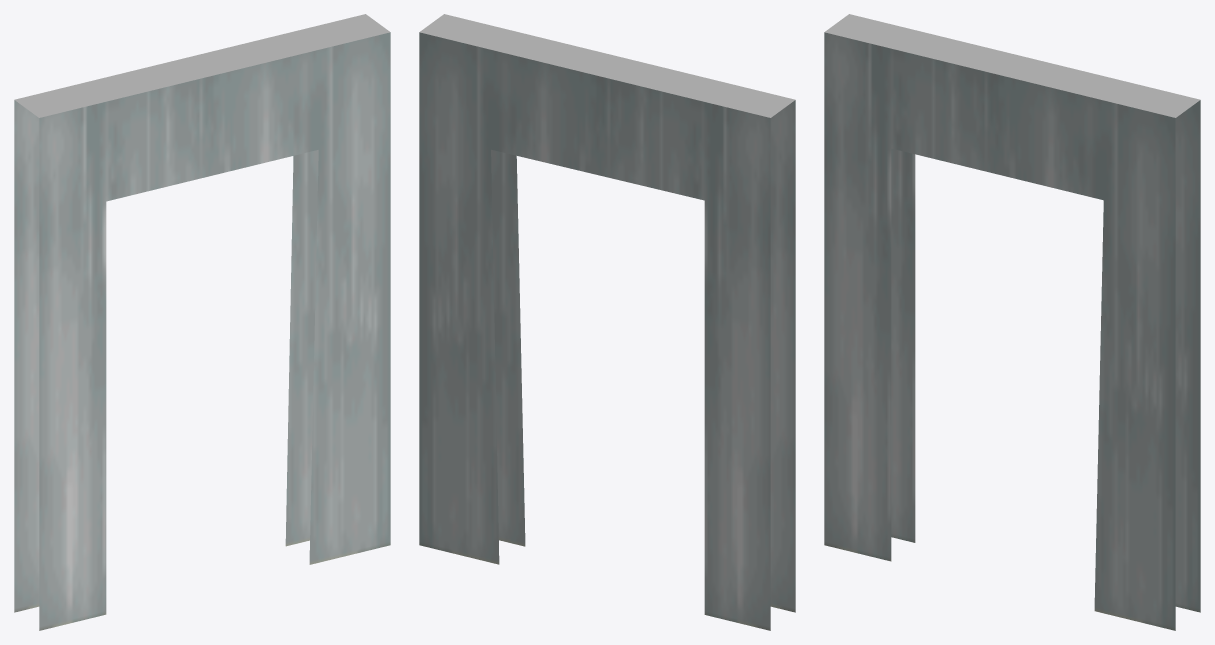
The model's file is W_I3_o [Grau]_1296.glb.
The picture shows the model from 3 angles, left to right: view 1: azimuth 30°, elevation 25°; view 2: azimuth 150°, elevation 25°; view 3: azimuth 330°, elevation 25°; orthographic projection.
Visible parts, largest first — view 1: pPlaneShape2, pPlaneShape3, pPlaneShape1; view 2: pPlaneShape3, pPlaneShape2, pPlaneShape1; view 3: pPlaneShape2, pPlaneShape3, pPlaneShape1.
Part boxes in pixels (left/top/right/bottom): pPlaneShape2: left=39, top=32, right=390, bottom=630; pPlaneShape3: left=14, top=100, right=318, bottom=612; pPlaneShape1: left=14, top=14, right=390, bottom=117; pPlaneShape3: left=419, top=32, right=770, bottom=630; pPlaneShape2: left=491, top=100, right=795, bottom=612; pPlaneShape1: left=419, top=14, right=795, bottom=117; pPlaneShape2: left=824, top=32, right=1175, bottom=630; pPlaneShape3: left=891, top=100, right=1200, bottom=612; pPlaneShape1: left=824, top=14, right=1200, bottom=117.
Bounding box in the file's own units: 0.25 × 0.3486 × 0.0308.
3 materials, 2 textured.
